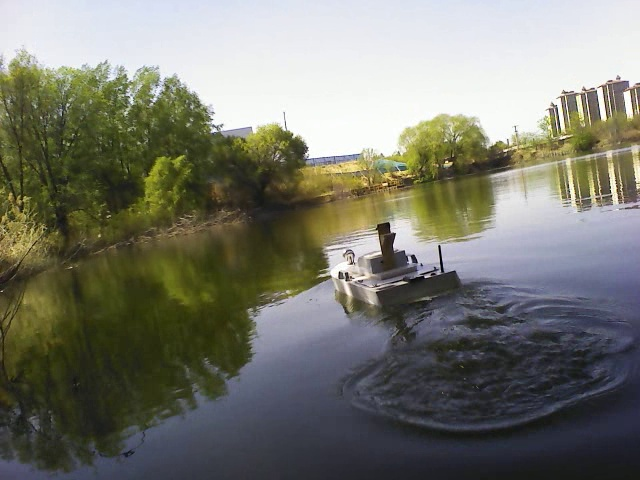boat: (327, 239, 469, 312)
